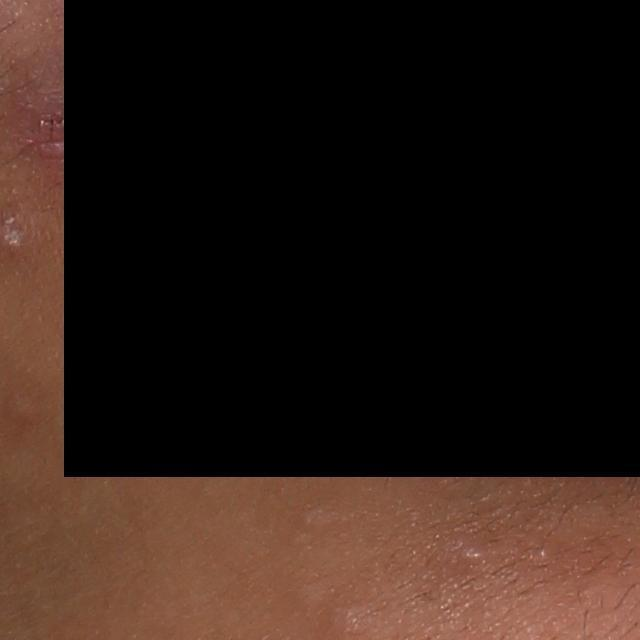comedo: (457, 545, 488, 565)
